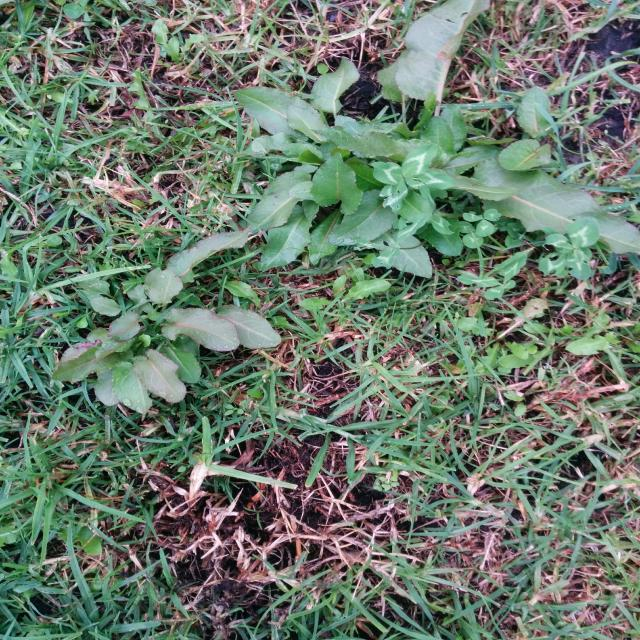Four Leaf Clover: (371, 142, 457, 212)
